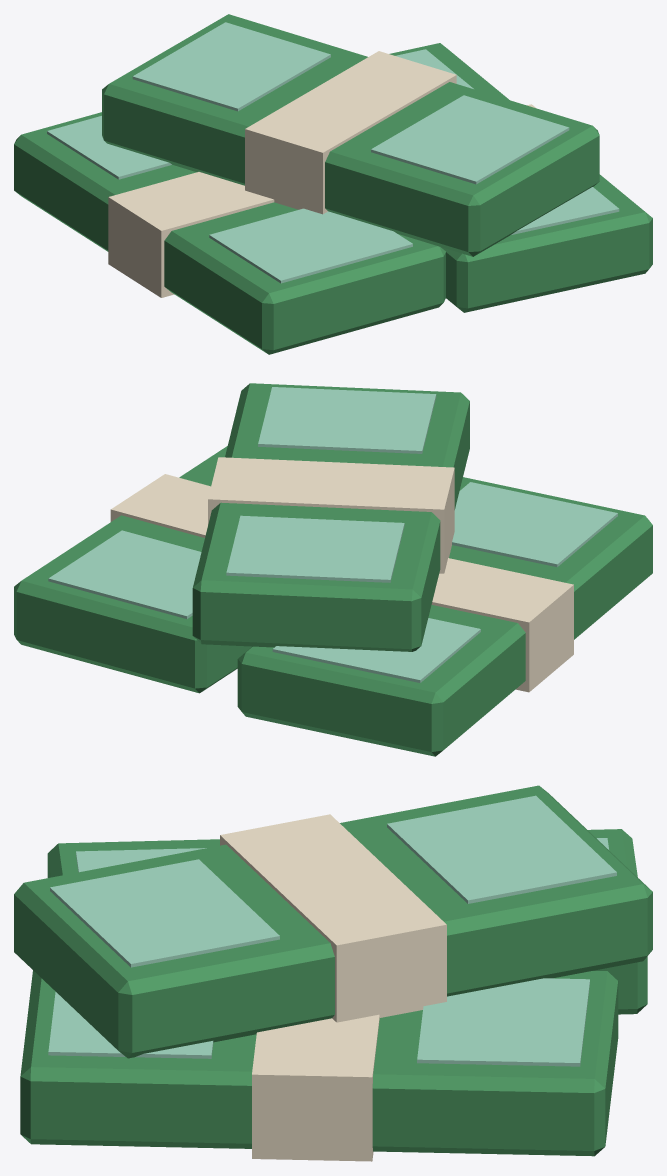
Rendered from cash_stack.glb.
3 renders of one model, top to bottom at view 1: azimuth 30°, elevation 25°; view 2: azimuth 150°, elevation 25°; view 3: azimuth 270°, elevation 25°, orthographic. The views are drawn at different scales.
Parts seen in each view (by area): view 1: Body; view 2: Body; view 3: Body.
Boxes of the visible parts, box(x1,y1,x2,y2) form: Body: box(14, 14, 652, 354); Body: box(14, 383, 652, 756); Body: box(14, 785, 652, 1161).
Size of the model in its own units: 0.1726 by 0.0502 by 0.18.
